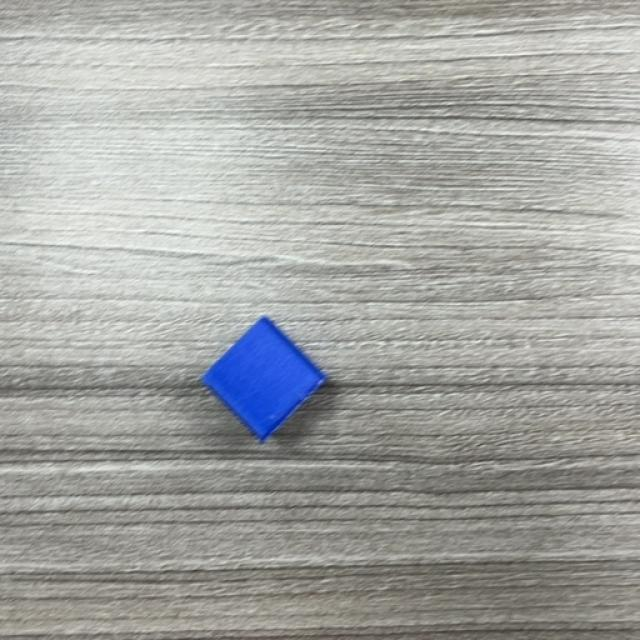Azul: (199, 318, 328, 442)
